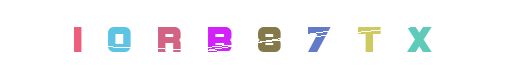0: (179, 0, 259, 80)
1: (102, 0, 182, 80)
7: (229, 0, 309, 80)
8: (226, 0, 306, 80)
B: (216, 0, 296, 80)
R: (184, 0, 264, 80)
T: (277, 0, 357, 80)
X: (324, 0, 404, 80)
